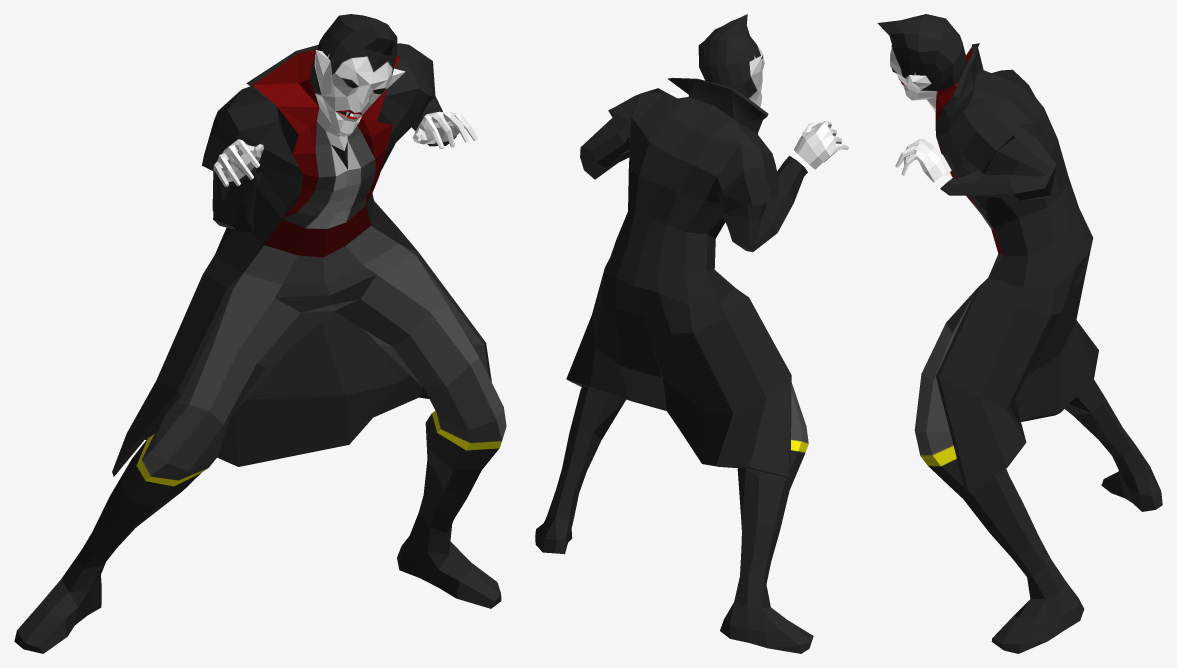
File: VampireAttack(77).obj
The picture shows the model from 3 angles, left to right: view 1: azimuth 30°, elevation 25°; view 2: azimuth 150°, elevation 25°; view 3: azimuth 270°, elevation 25°; orthographic projection. The views are drawn at different scales.
Visible parts, largest first — view 1: Plane002; view 2: Plane002; view 3: Plane002.
Boxes of the visible parts, x1,y1,x2,y2 form: Plane002: [14, 14, 506, 653]; Plane002: [535, 14, 848, 653]; Plane002: [877, 14, 1162, 653].
Bounding box in the file's own units: 189 × 288 × 134.
